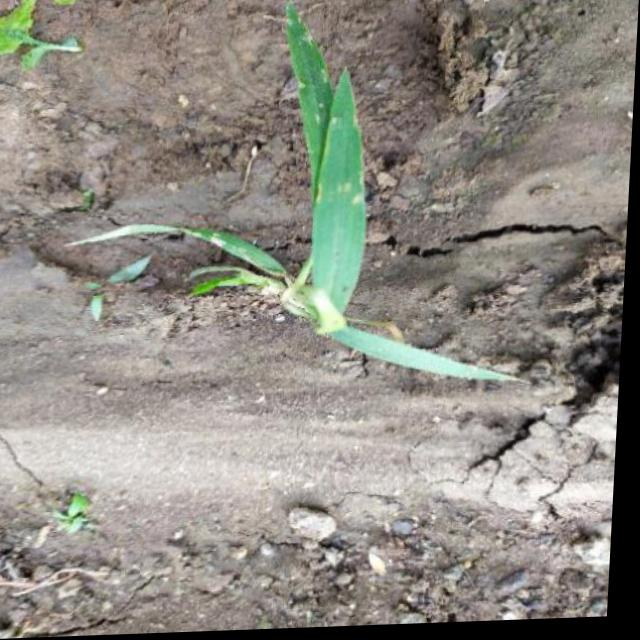weed: (65, 5, 563, 418)
